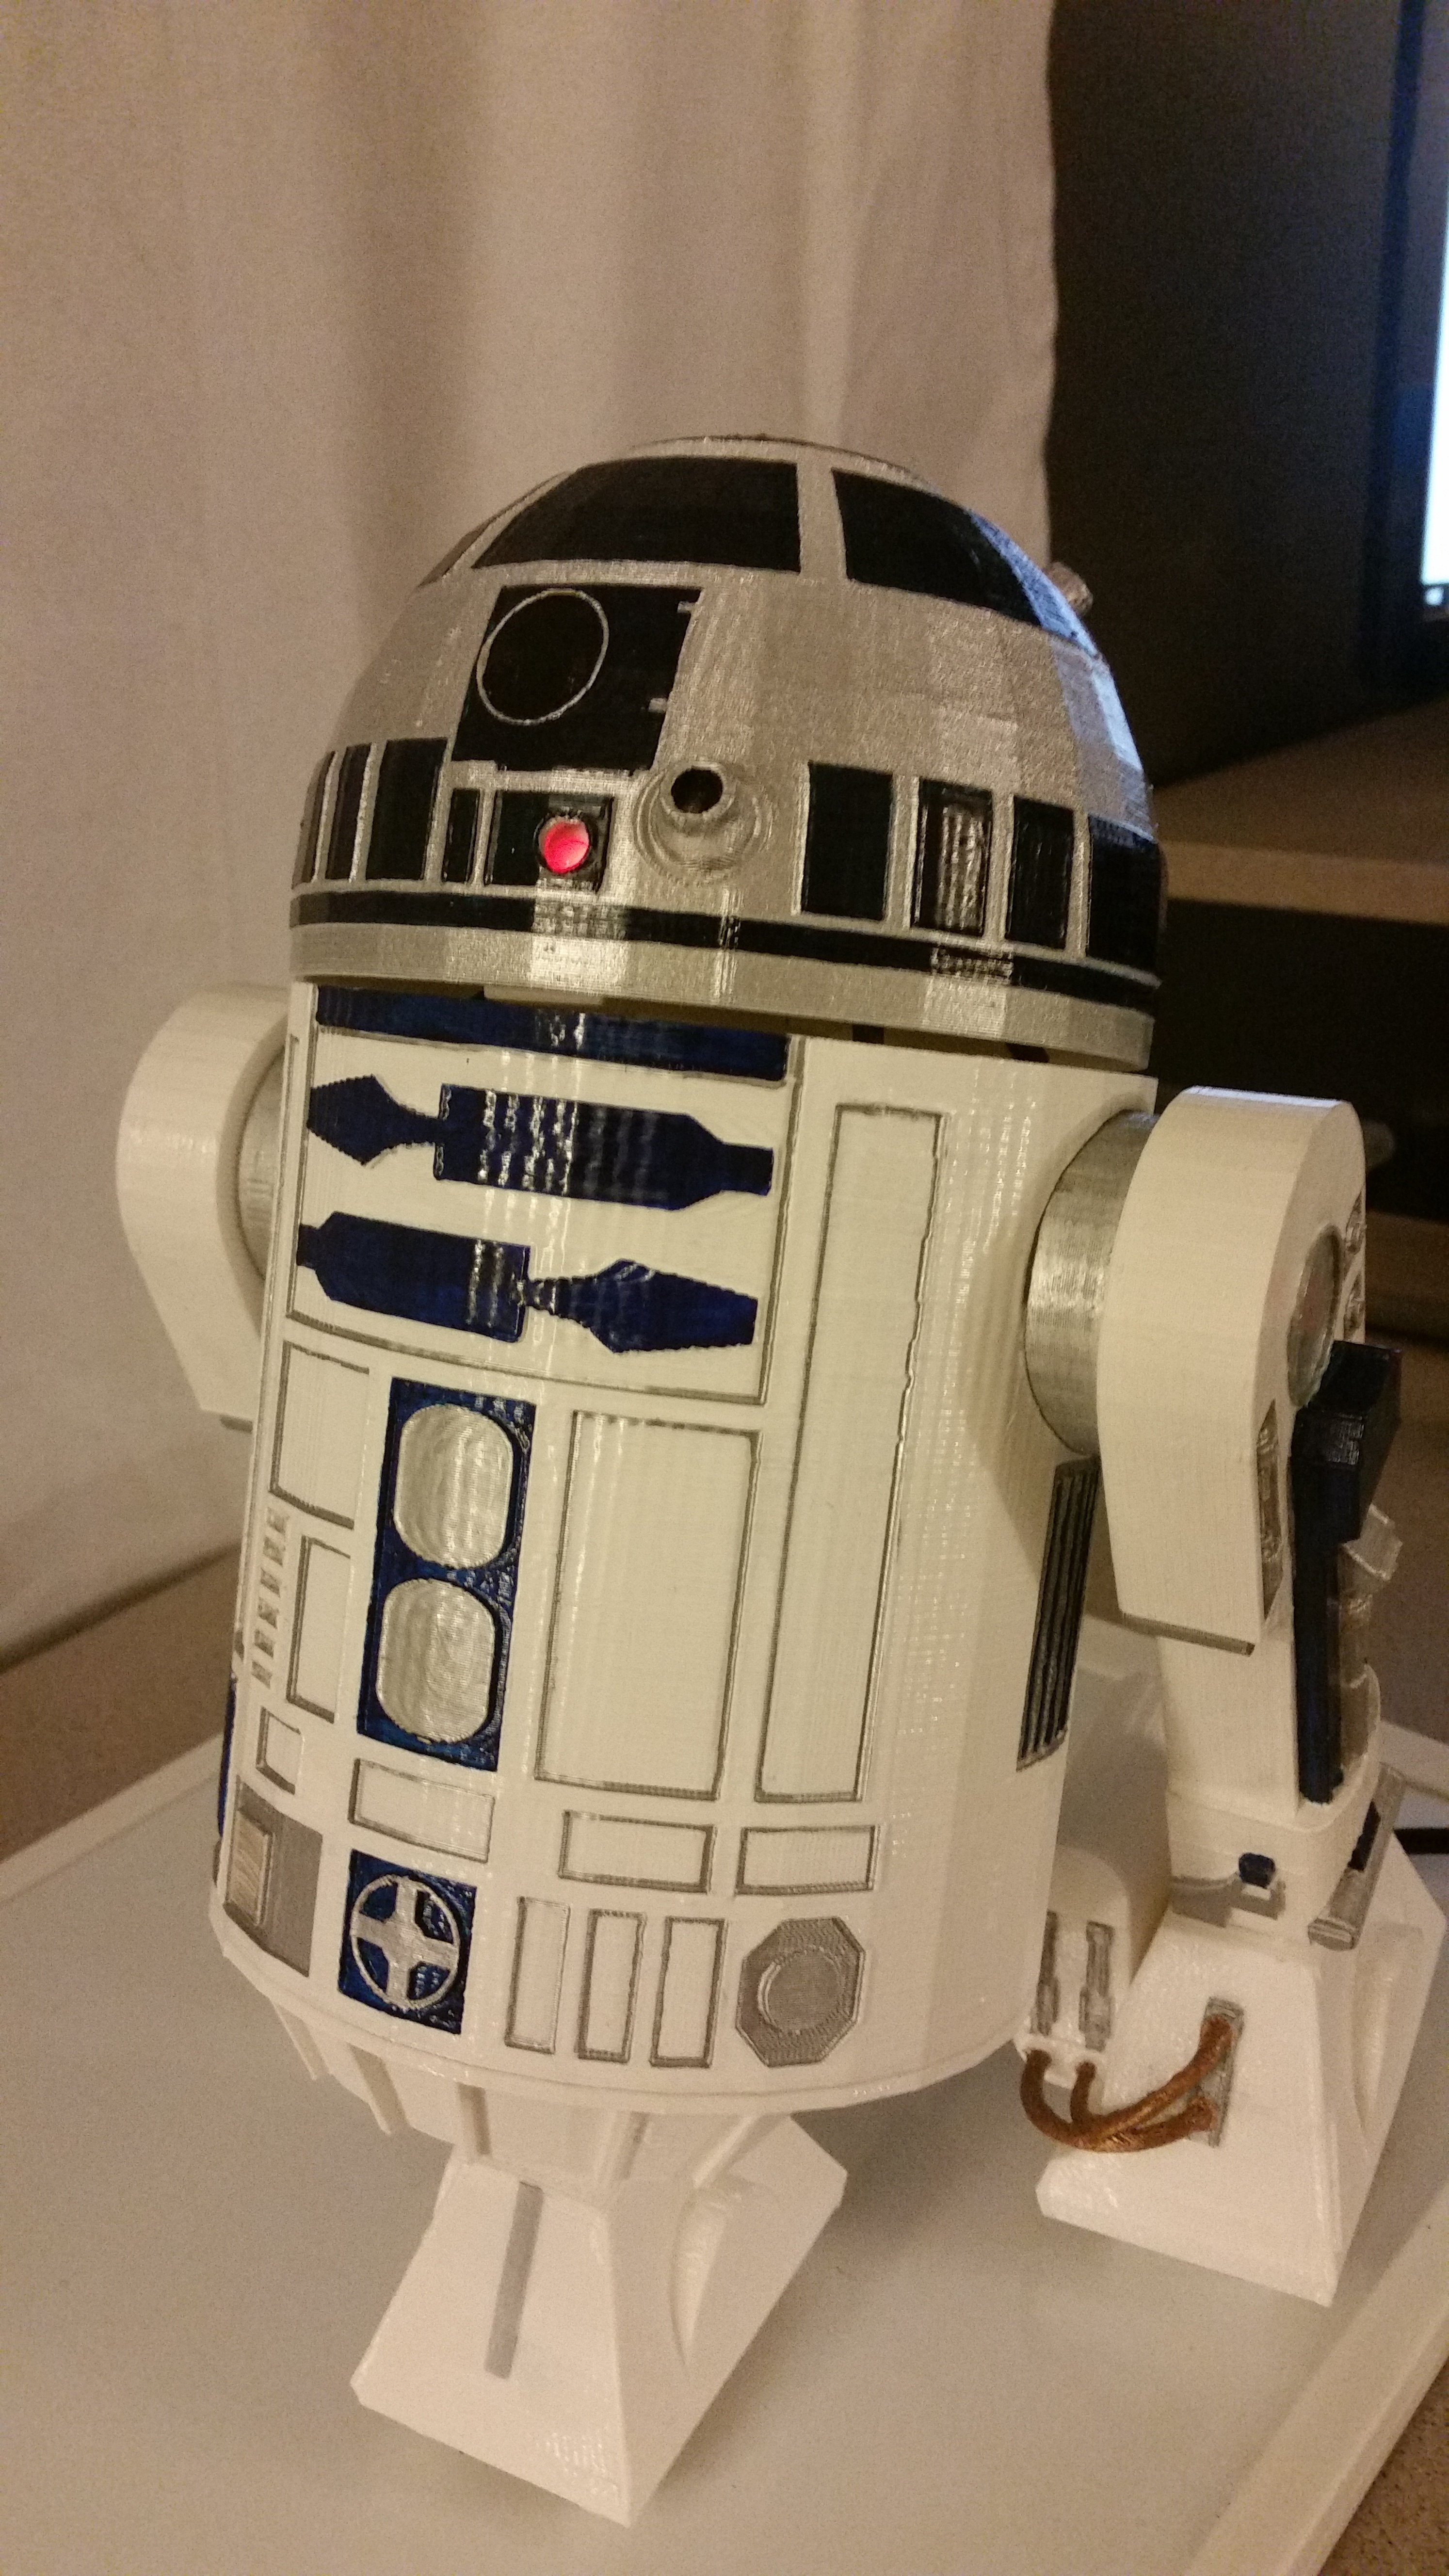r2d2: (133, 446, 1422, 2454)
